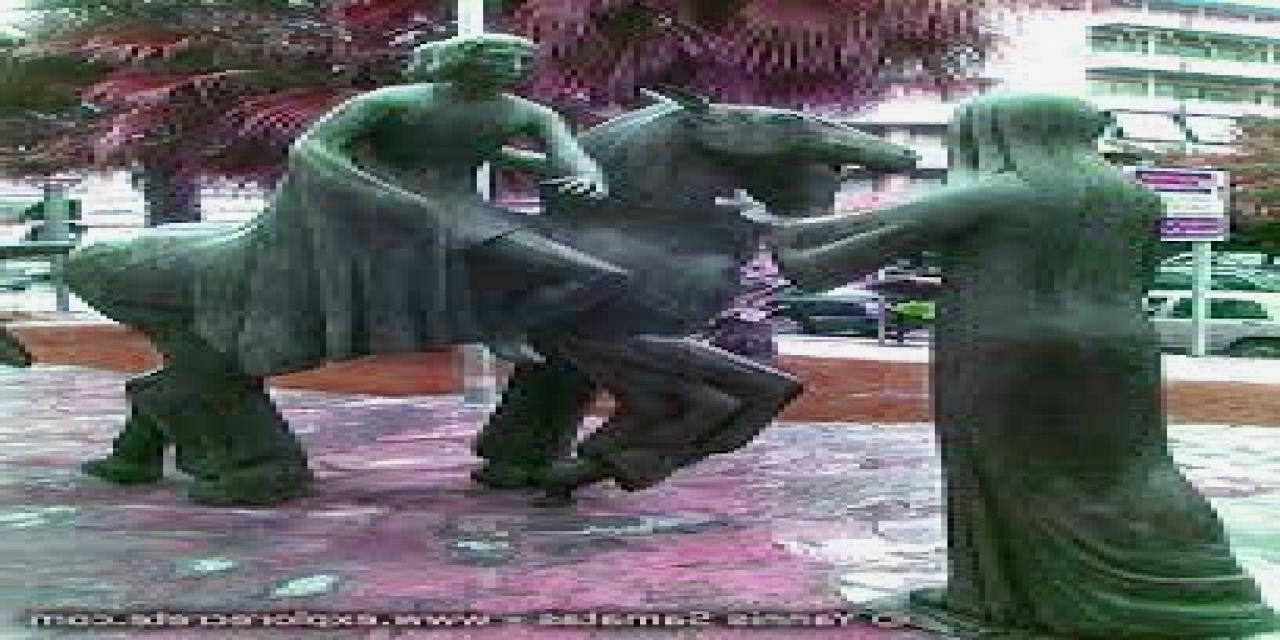Aretousa: (79, 32, 1280, 640)
